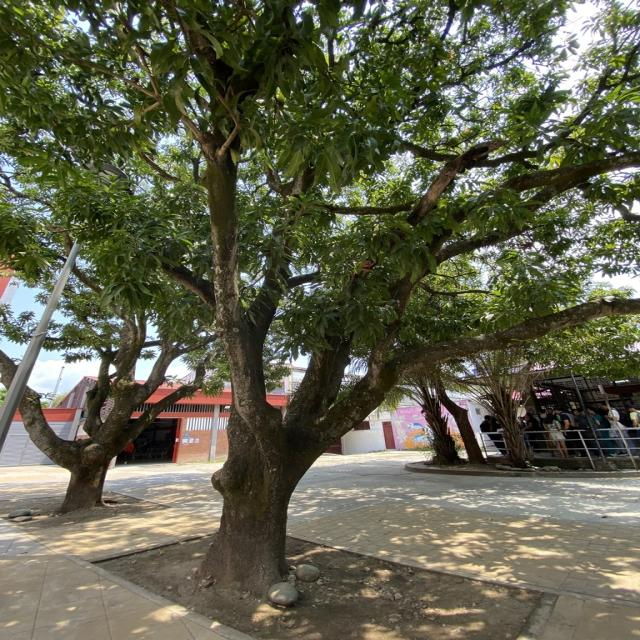Mango-Tree: (17, 2, 640, 521)
